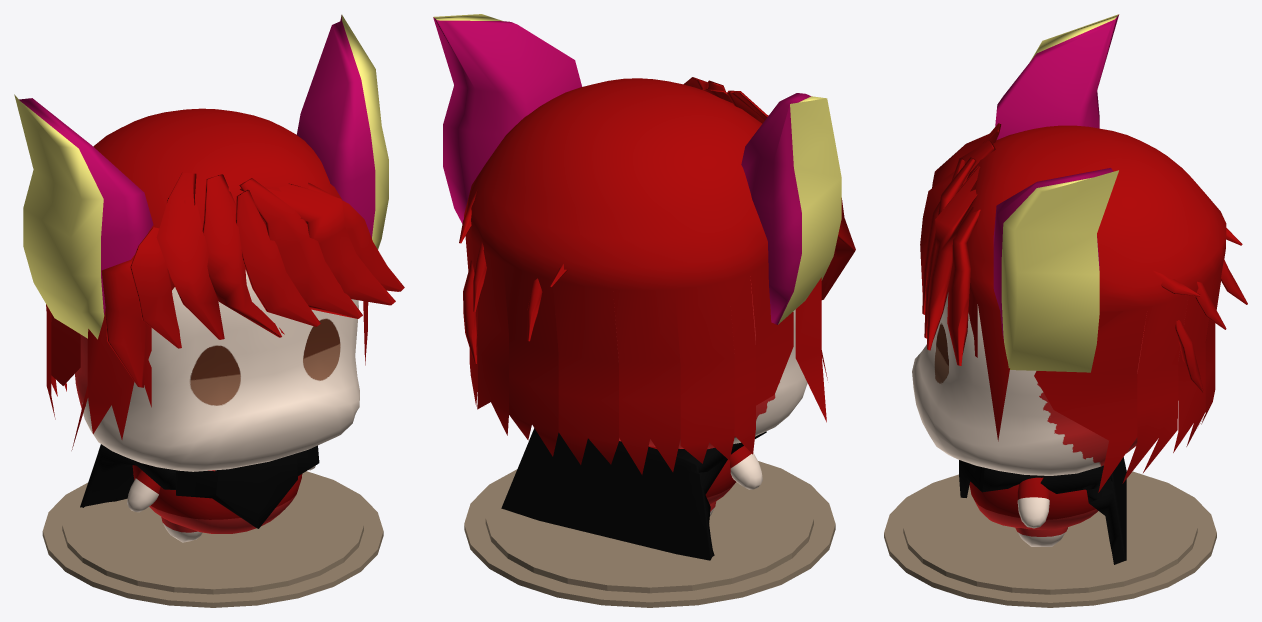
The model's file is bat.fbx.
3 views of the same model, side by side, from view 1: azimuth 30°, elevation 25°; view 2: azimuth 150°, elevation 25°; view 3: azimuth 270°, elevation 25° (orthographic). The views are drawn at different scales.
Visible parts, largest first — view 1: bat01, koma_base, bat18, bat08, bat28, bat15, bat14, bat11, bat16, bat12, bat13, bat19 (+5 smaller); view 2: bat18, koma_base, bat10, bat08, bat28, bat01, bat19, bat04, bat21, bat02, bat23, bat22 (+1 smaller); view 3: bat18, koma_base, bat28, bat01, bat08, bat10, bat16, bat02, bat20, bat03, bat12, bat14 (+6 smaller).
Part boxes in pixels (x1,y1,x2,y2): bat01: (75,270,359,471); koma_base: (42,471,383,607); bat18: (46,108,368,450); bat08: (14,94,153,339); bat28: (297,14,388,249); bat15: (156,172,224,339); bat14: (239,178,362,318); bat11: (176,445,319,528); bat16: (240,183,395,305); bat12: (202,174,284,337); bat13: (235,189,320,326); bat19: (101,255,145,387); bat18: (464,78,827,474); koma_base: (464,461,835,607); bat10: (501,428,766,560); bat08: (741,93,841,324); bat28: (433,14,581,223); bat01: (614,276,807,449); bat19: (821,198,855,299); bat04: (730,446,762,489); bat21: (463,259,477,363); bat02: (649,446,735,504); bat23: (527,278,542,341); bat22: (473,241,486,311); bat18: (966,125,1226,492); koma_base: (884,471,1216,607); bat28: (993,168,1118,372); bat01: (912,292,1184,475); bat08: (995,14,1119,139); bat10: (982,457,1126,564); bat16: (927,166,980,350); bat02: (969,477,1098,529); bat20: (947,207,980,365); bat03: (1017,477,1049,528); bat12: (920,141,995,294); bat14: (924,157,976,338).
Bounding box in the file's own units: 6.7 × 8.86 × 6.56.
4 materials, 1 textured.
